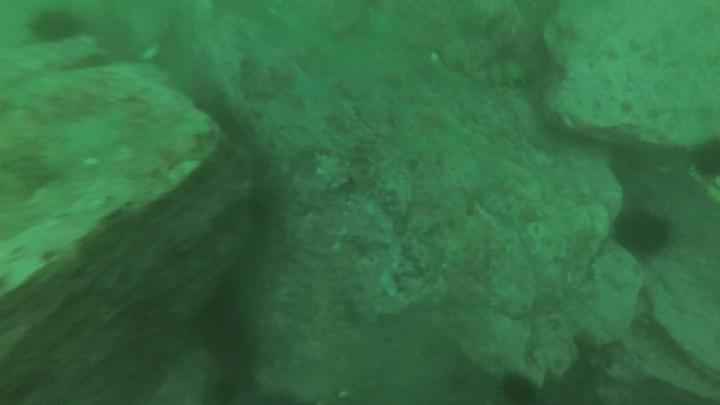echinus: (607, 206, 675, 261), (21, 6, 91, 46), (498, 371, 548, 405), (690, 133, 720, 186)
holothurian: (467, 51, 551, 88)
